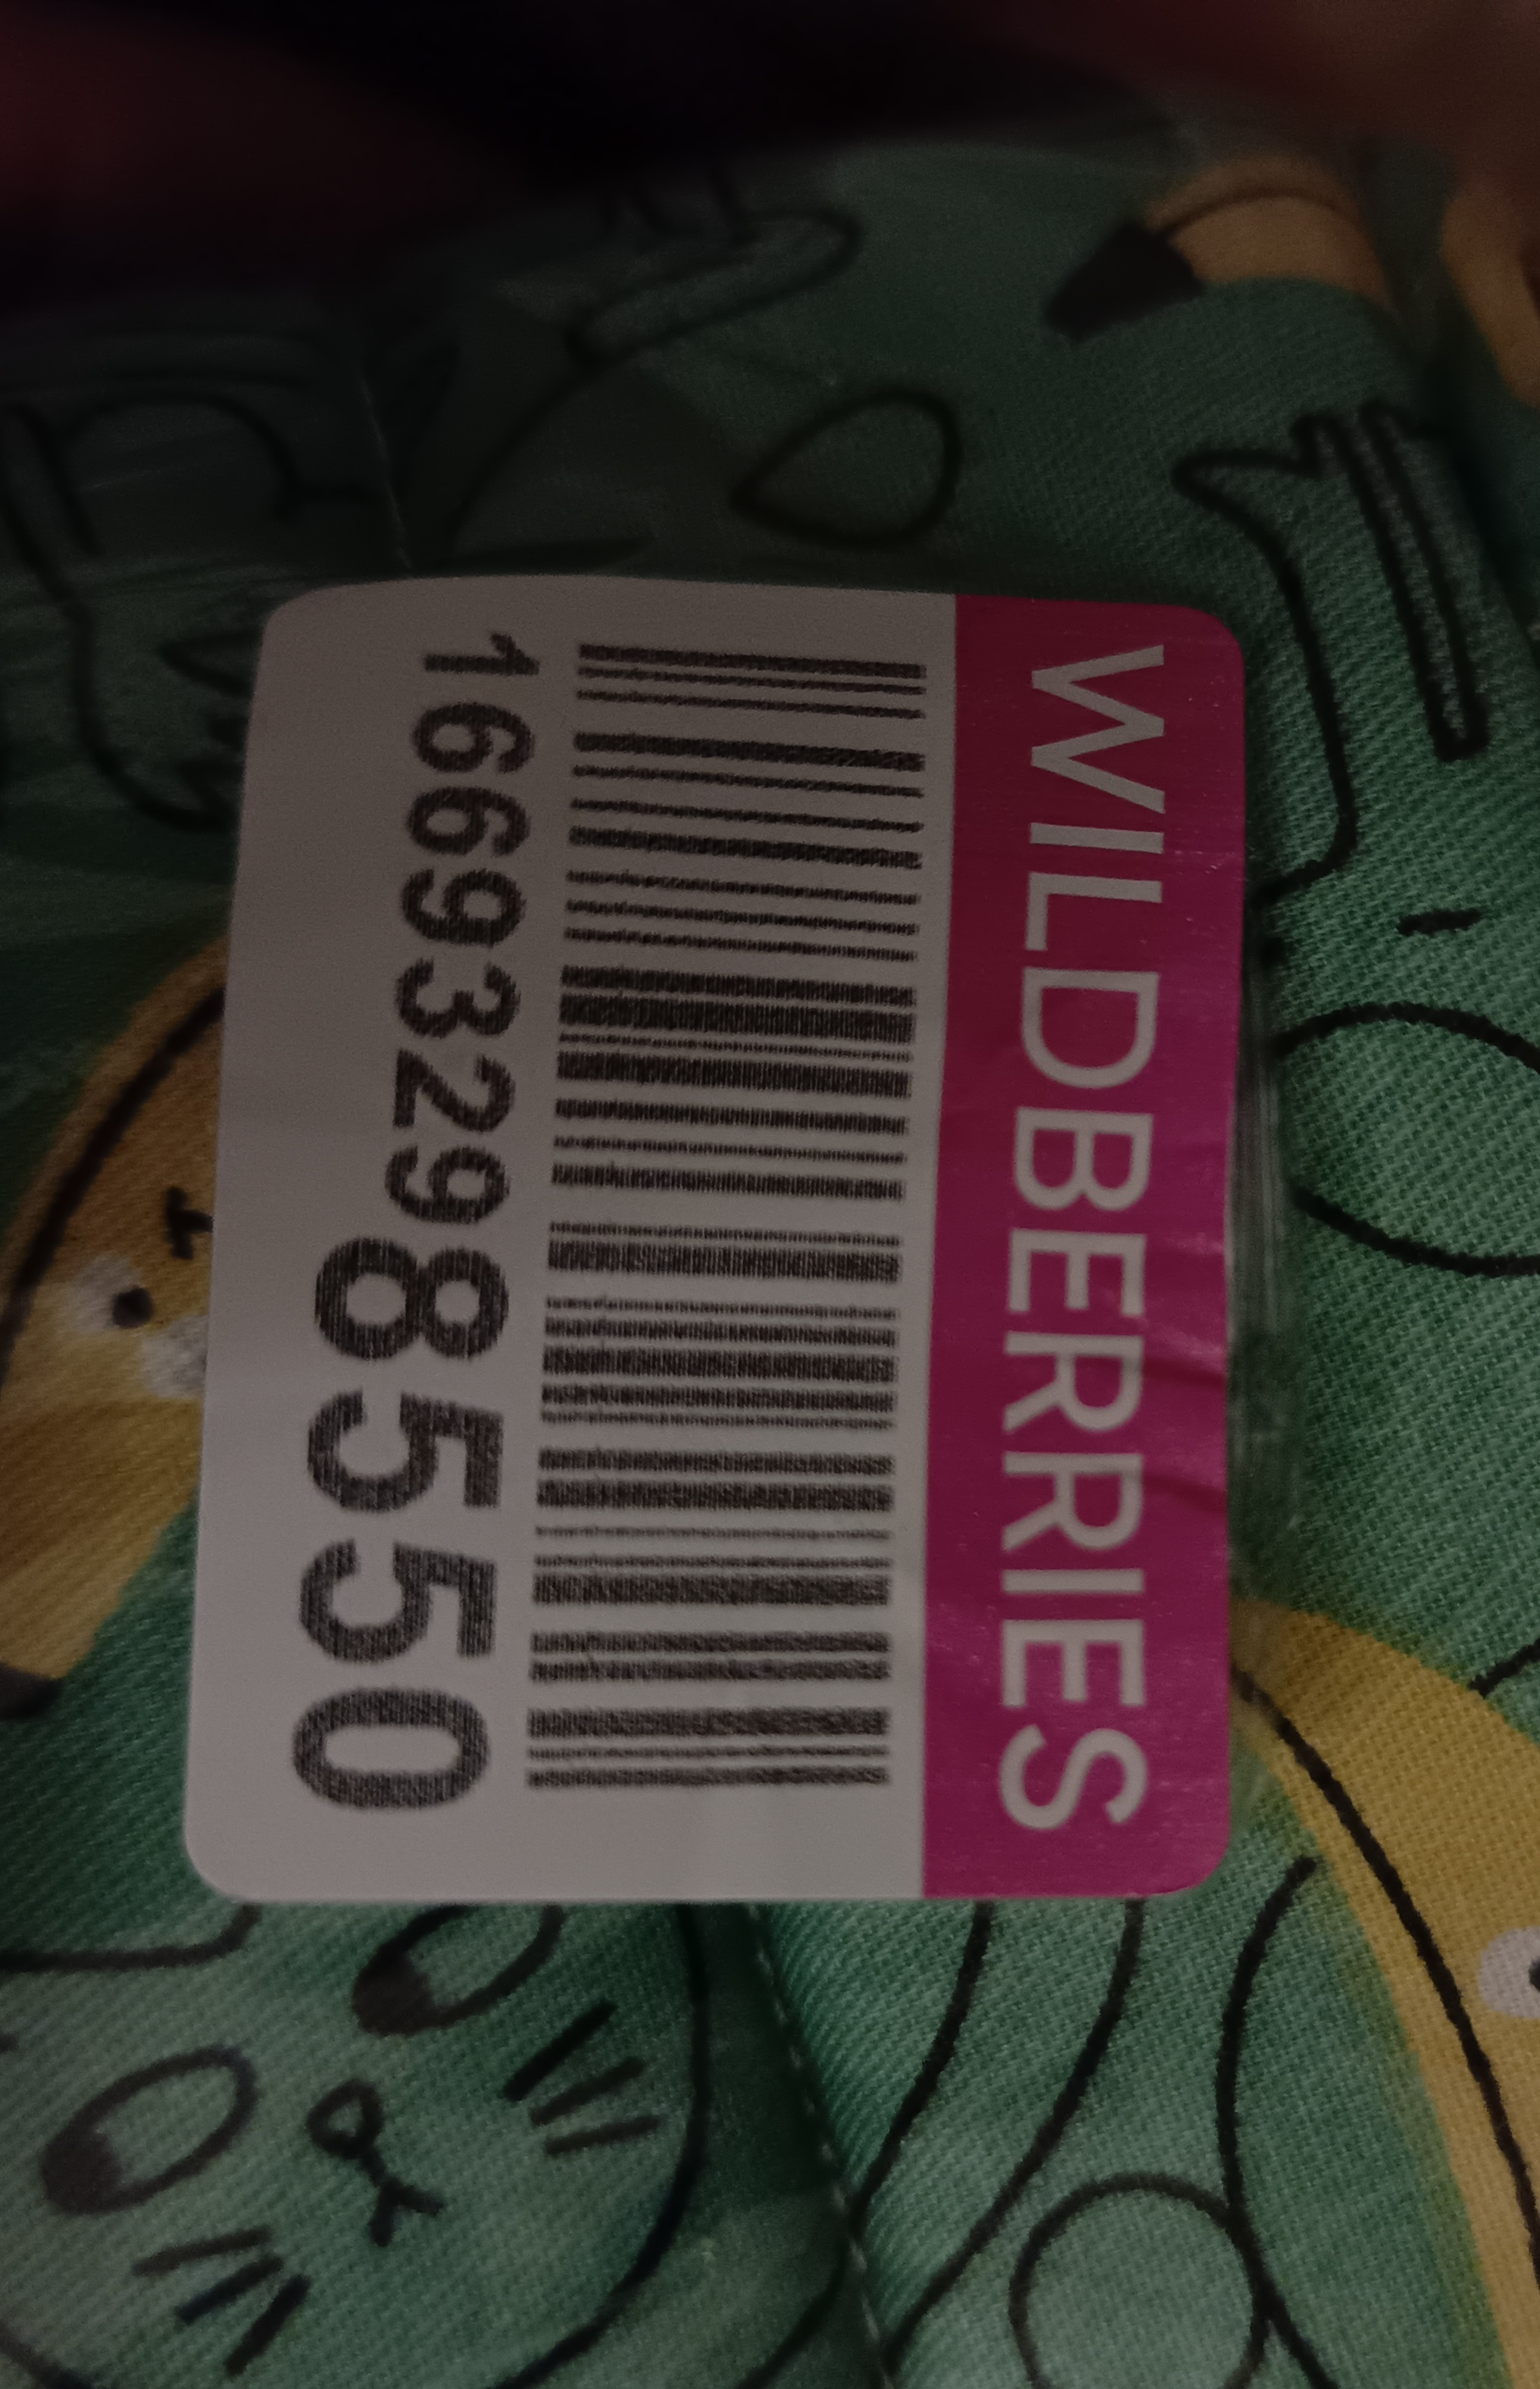1d: (527, 639, 934, 1788)
